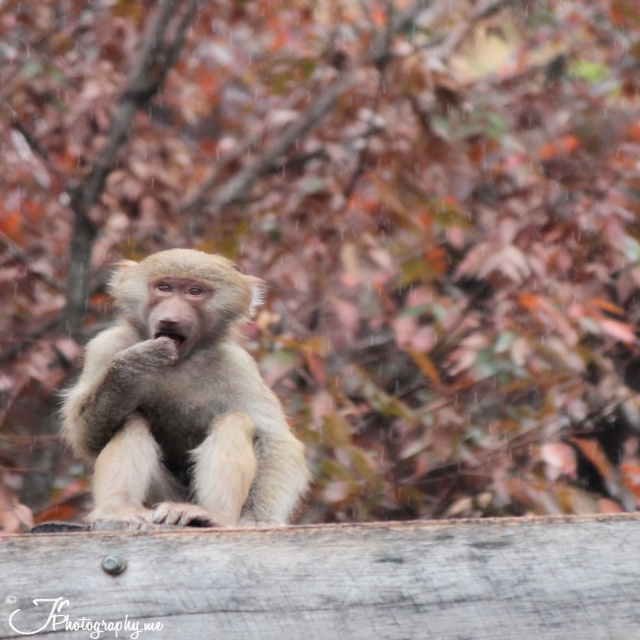Monkey: (35, 231, 308, 536)
